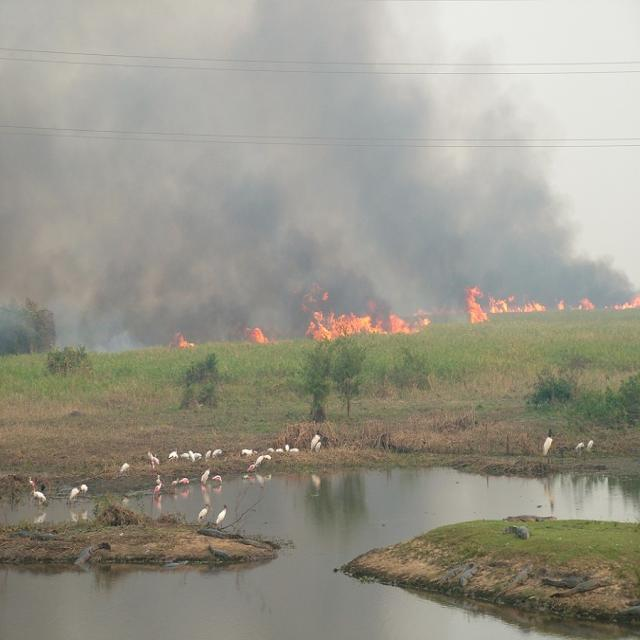fire: (310, 313, 422, 339), (465, 290, 546, 323)
smoke: (34, 14, 431, 268)
